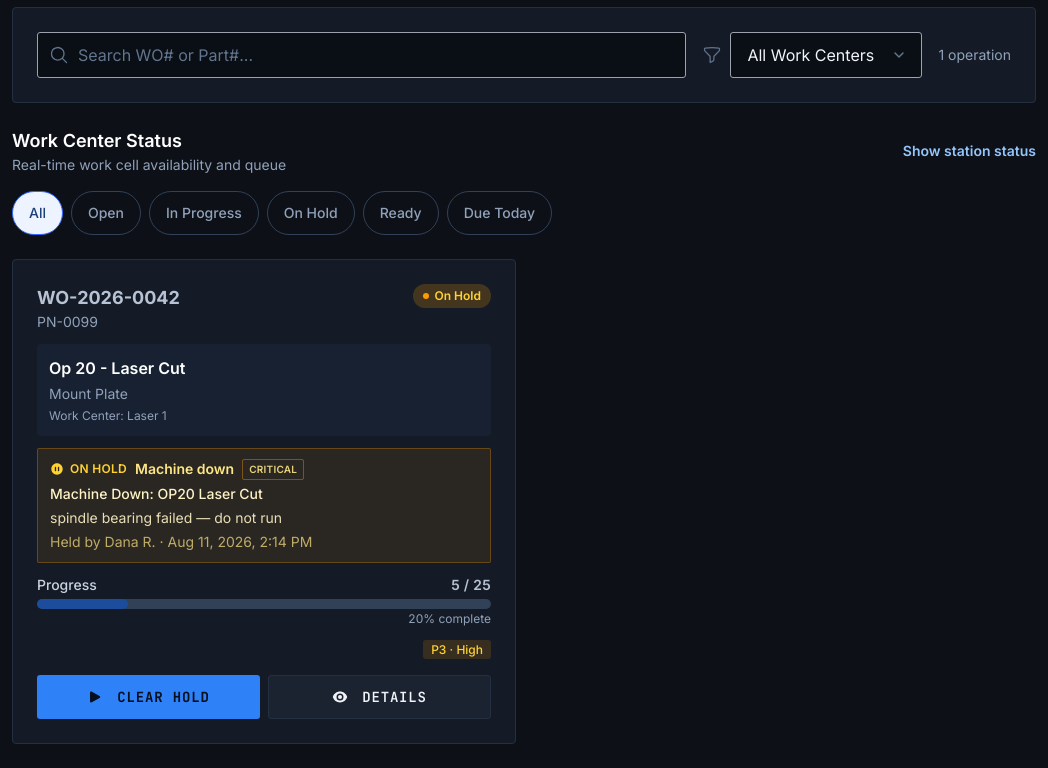
it: ShopFloorSimple Clear Hold › WARNS and names a blocker the resume did not resolve
The width and height of the screenshot is (1048, 768).
(page scrolled)
expect the element with test id "shop-floor-op-202" is shown: met, box [12,258,516,744]
Click the button with test id "shop-floor-clear-hold-202": {"x": 148, "y": 696} [37,674,260,718]
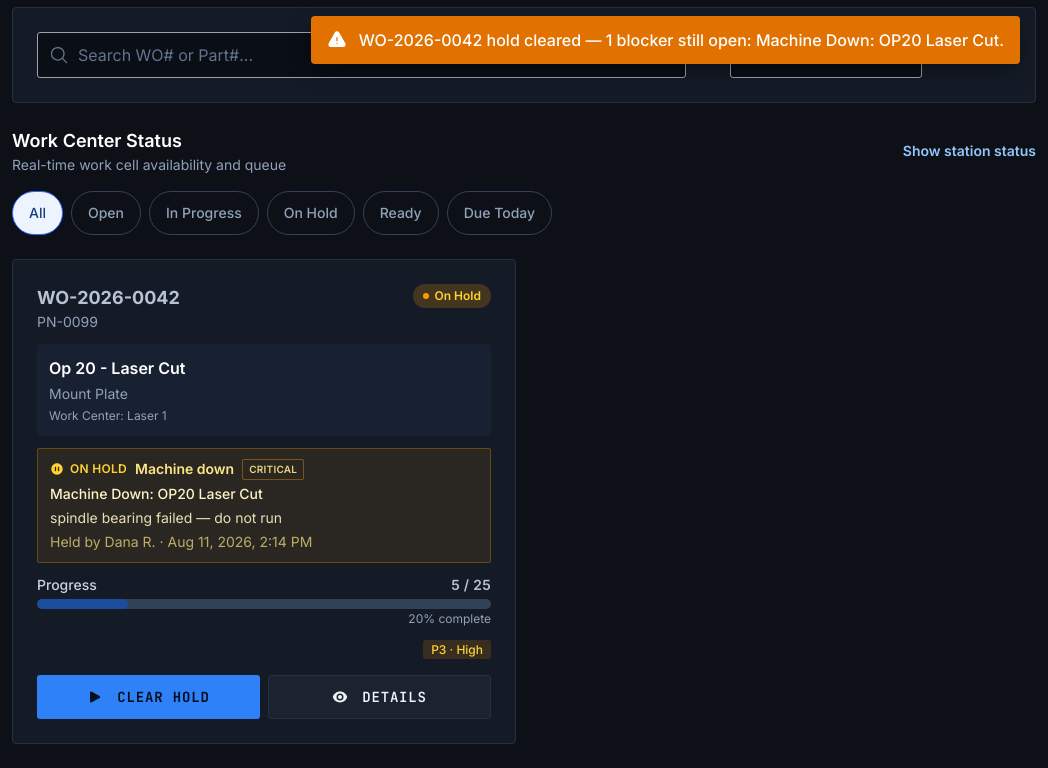
expect the message shows "1 blocker still open": met, box [359,30,1004,50]
expect the message shows "Machine Down: OP20 Laser Cut": met, box [359,30,1004,50]
